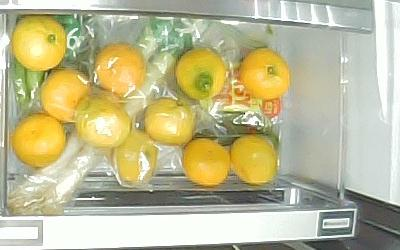tangerine: (11, 15, 67, 70), (13, 115, 66, 167), (240, 48, 292, 99), (175, 47, 225, 100), (181, 139, 233, 185), (232, 135, 278, 183)
tangerine_vinyl: (75, 95, 133, 146), (41, 67, 93, 122), (94, 43, 147, 95), (113, 129, 158, 183), (144, 98, 194, 144)
